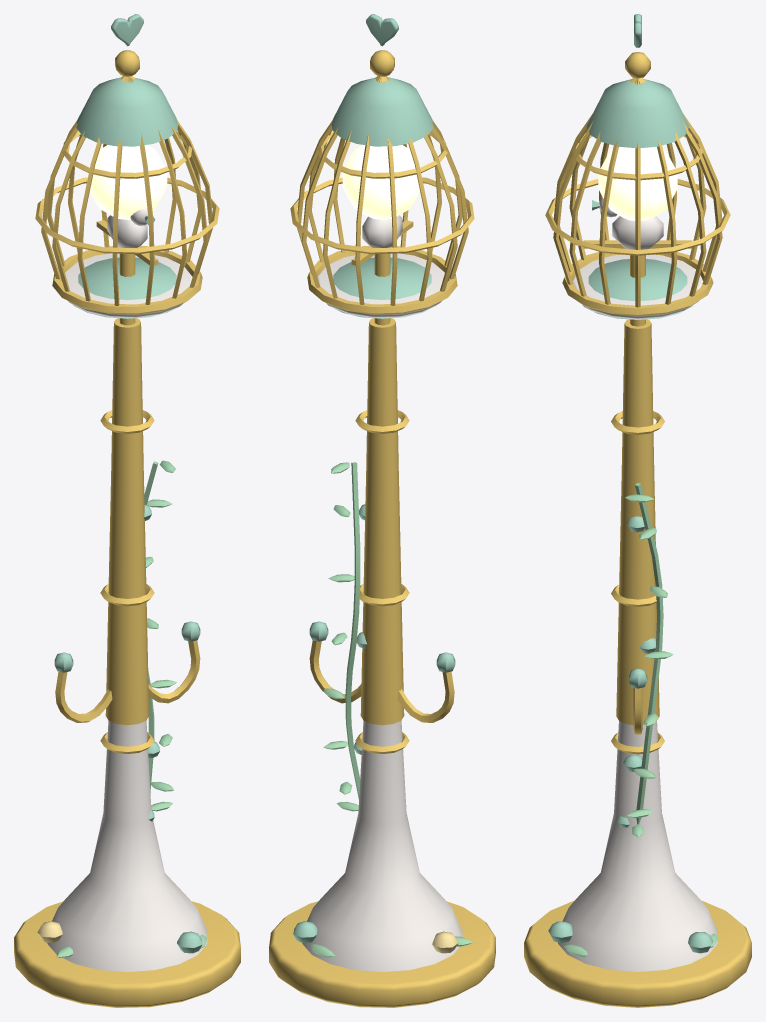
File: birdcage_lamp.glb
3 renders of one model, left to right at view 1: azimuth 30°, elevation 25°; view 2: azimuth 150°, elevation 25°; view 3: azimuth 270°, elevation 25°, orthographic.
Parts seen in each view (by area): view 1: birdcage_lamp; view 2: birdcage_lamp; view 3: birdcage_lamp.
Boxes of the visible parts, bbox=[...] form: birdcage_lamp: bbox=[14, 14, 240, 1007]; birdcage_lamp: bbox=[269, 14, 495, 1007]; birdcage_lamp: bbox=[524, 14, 751, 1007].
Size of the model in its own units: 0.84 by 3.84 by 0.84.
